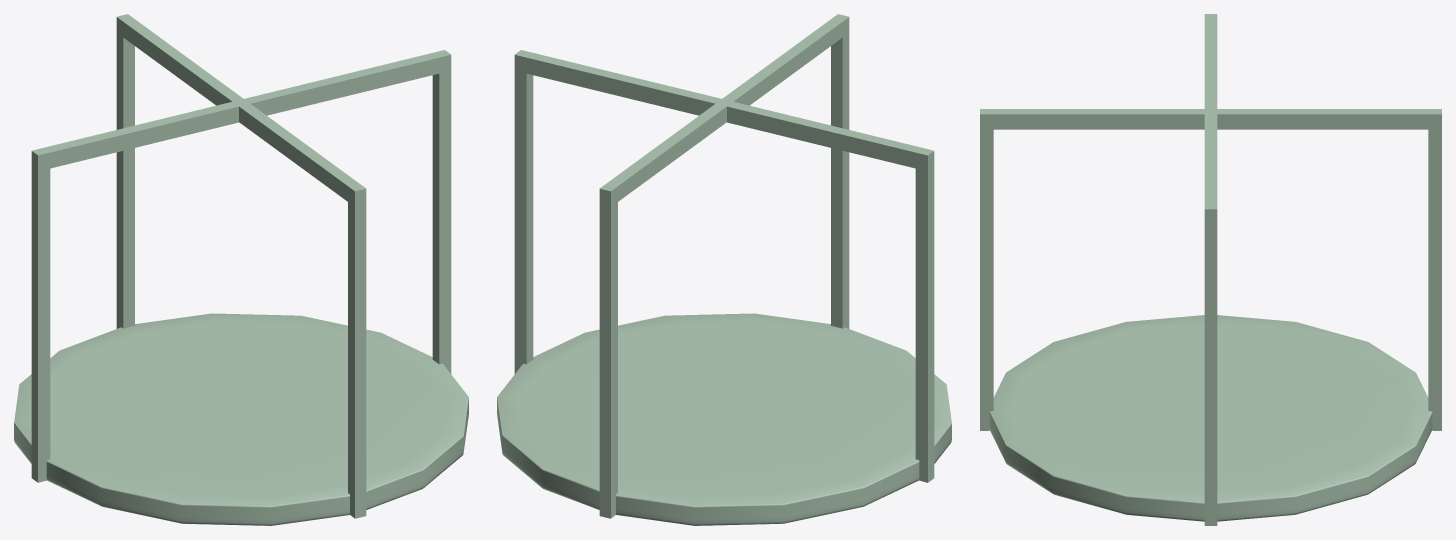
The model's file is Round_Green_coffee_table_cafe_Duane.fbx.
The picture shows the model from 3 angles, left to right: view 1: azimuth 30°, elevation 25°; view 2: azimuth 150°, elevation 25°; view 3: azimuth 270°, elevation 25°; orthographic projection. The views are drawn at different scales.
Parts seen in each view (by area): view 1: pCylinder1, pCube1, pCube2; view 2: pCylinder1, pCube1, pCube2; view 3: pCylinder1, pCube2, pCube1.
Boxes of the visible parts, x1,y1,x2,y2 form: pCylinder1: (14, 313, 468, 525); pCube1: (31, 50, 451, 482); pCube2: (116, 14, 366, 518); pCylinder1: (497, 313, 951, 525); pCube1: (514, 50, 934, 482); pCube2: (599, 14, 849, 518); pCylinder1: (989, 315, 1432, 521); pCube2: (980, 109, 1441, 430); pCube1: (1204, 14, 1217, 525).
Bounding box in the file's own units: 0.5685 × 0.4312 × 0.5685.
